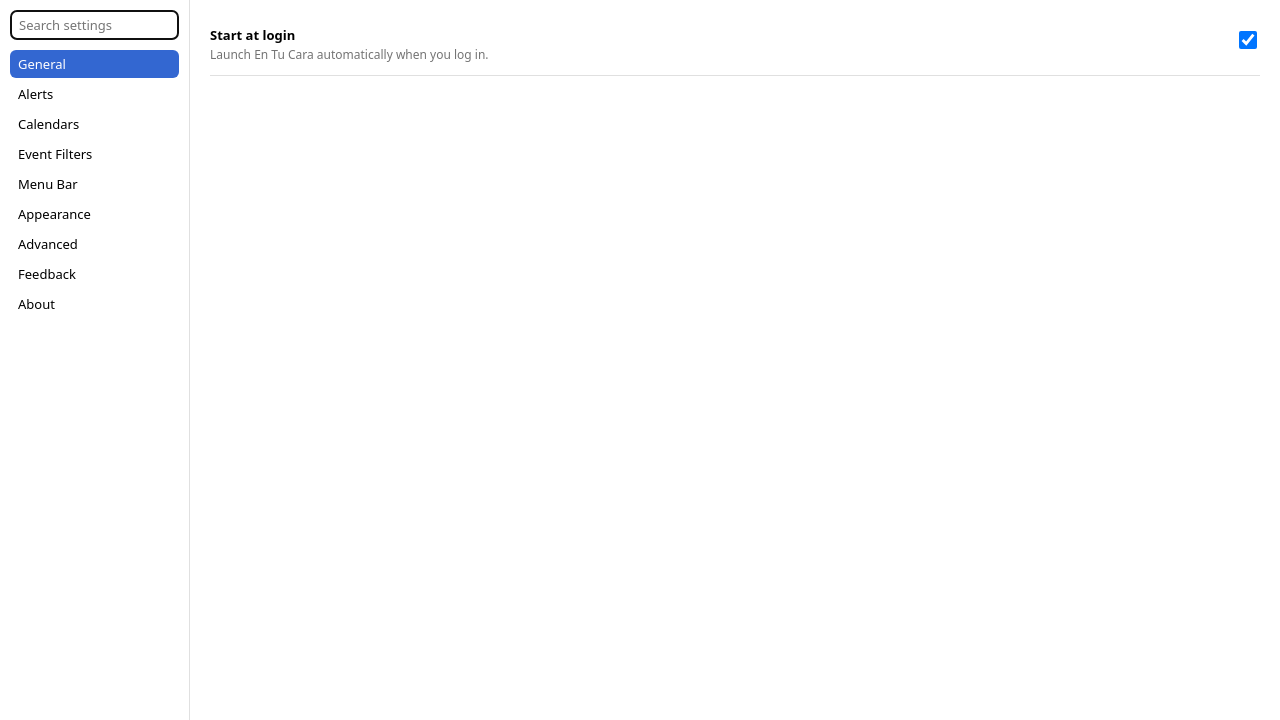
SettingsWindow › clears a stale error banner once a later save succeeds
Expected: the search field labelled "Search settings" is shown, [10,10,179,40]
Click the button "Event Filters" at (94, 154), box [10,140,179,168]
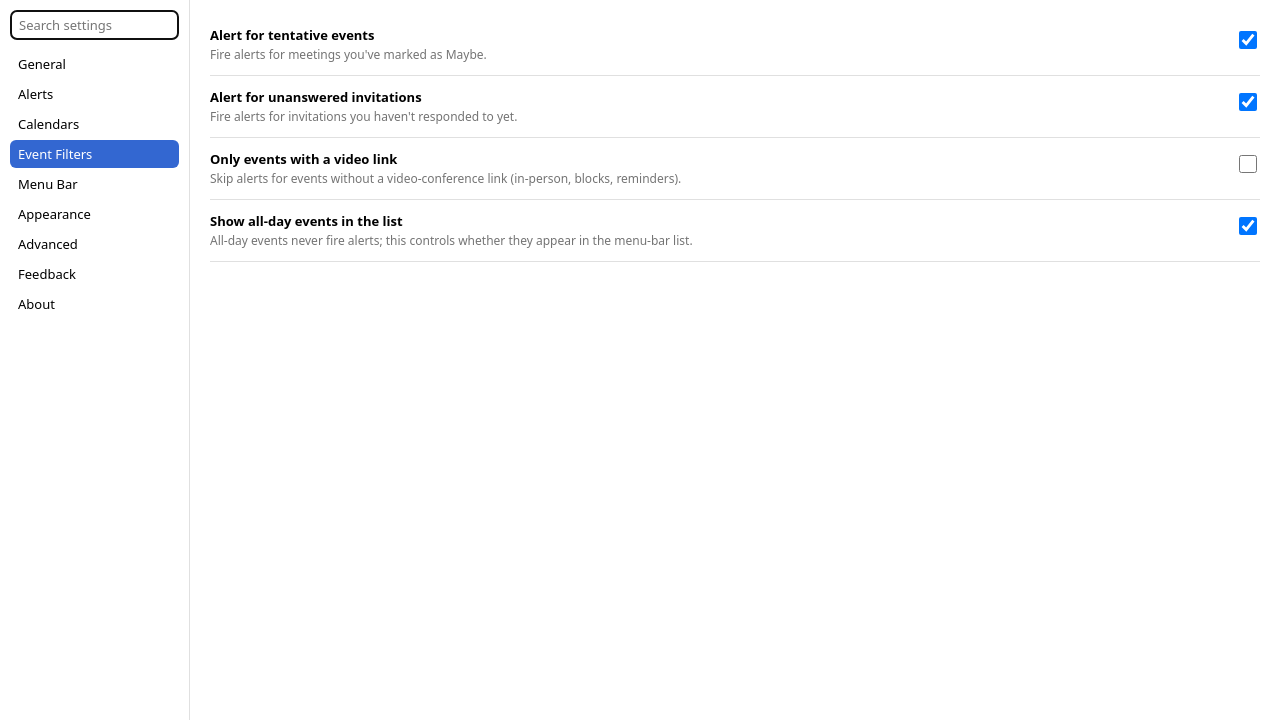
Click the switch named "Only events with a video link" at (1248, 164), box [1239,155,1257,173]
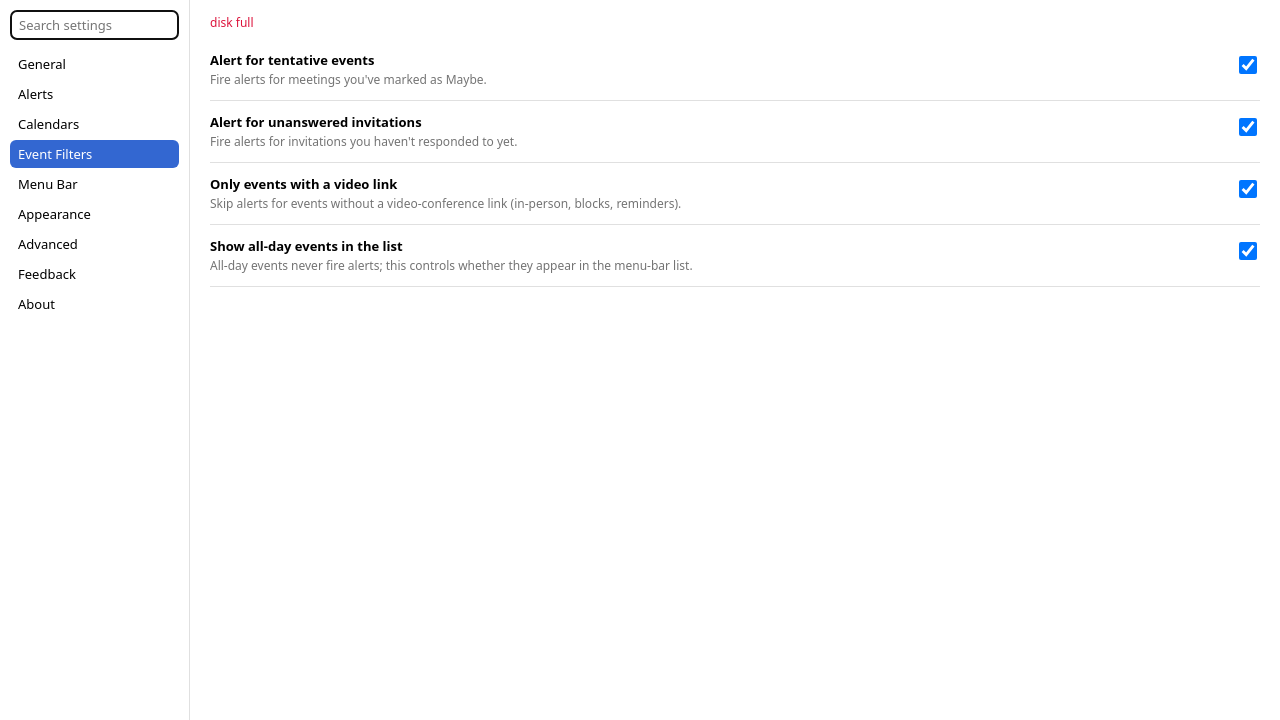
Now the text "disk full" is shown, box [210,14,254,31]
Click the switch named "Only events with a video link" at (1248, 189), box [1239,180,1257,198]
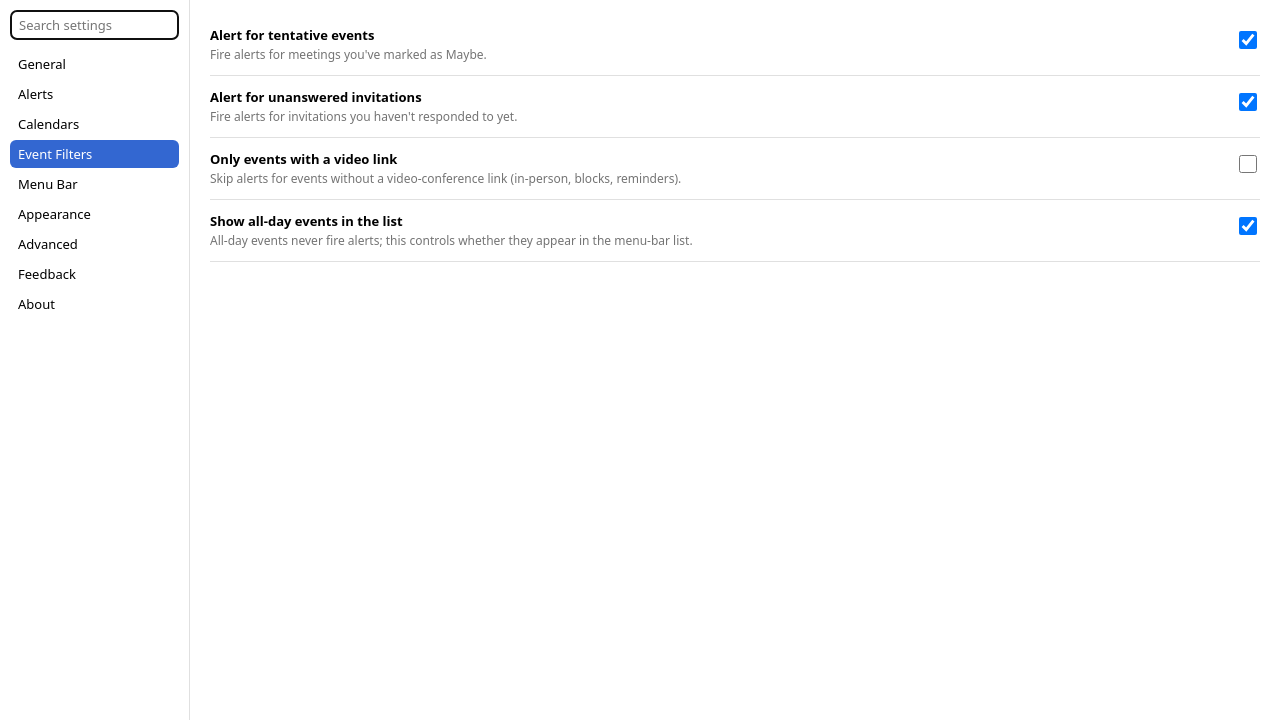
Now the text "disk full" is gone
